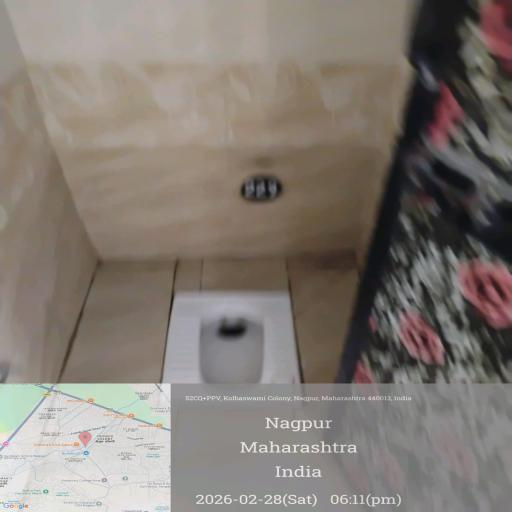clean_floor: (47, 32, 441, 492)
clean_indian: (144, 285, 327, 421)
